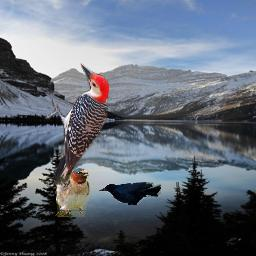Crow: (98, 182, 161, 205)
Swallow: (55, 168, 90, 217)
Woodpecker: (44, 62, 109, 184)
